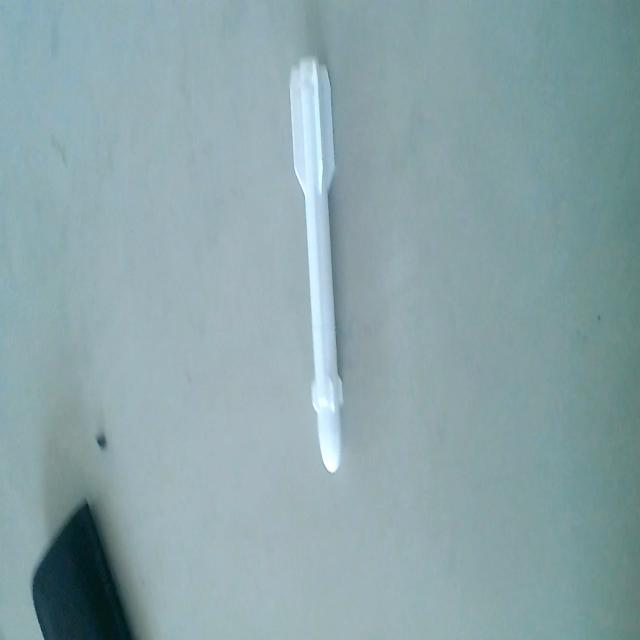Rocket: (286, 52, 346, 476)
